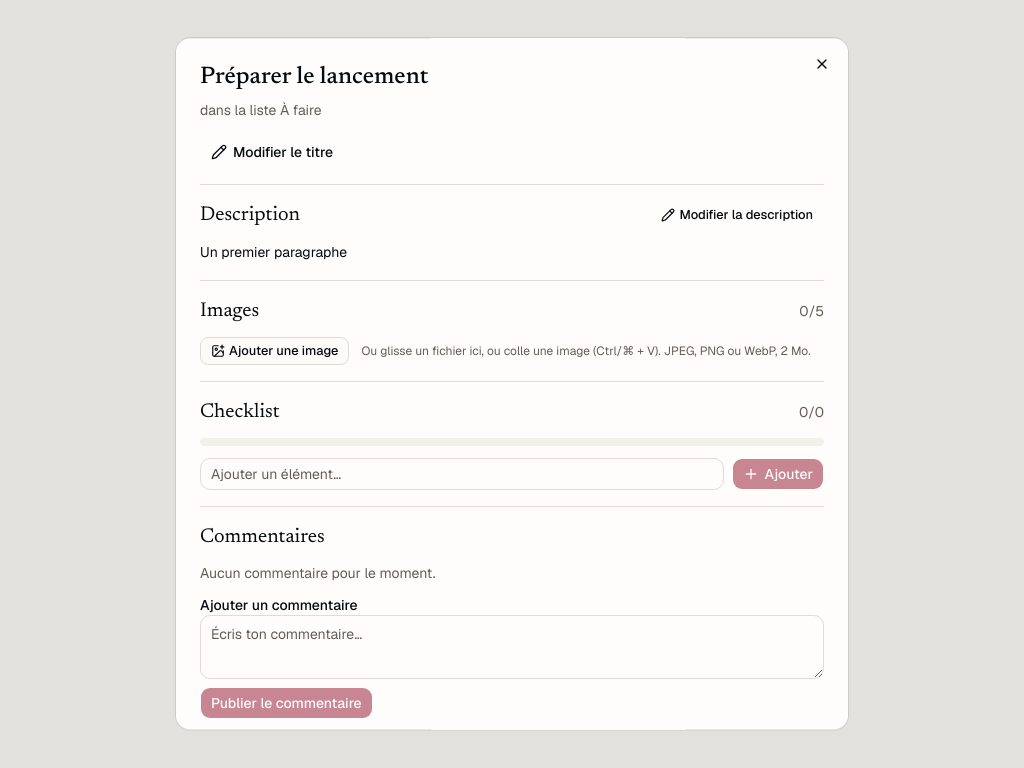
fenêtre d'une carte › conserve la saisie et affiche un message après une erreur réseau
Click the button "Modifier la description" at point(737, 215), box left=650, top=201, right=824, bottom=229
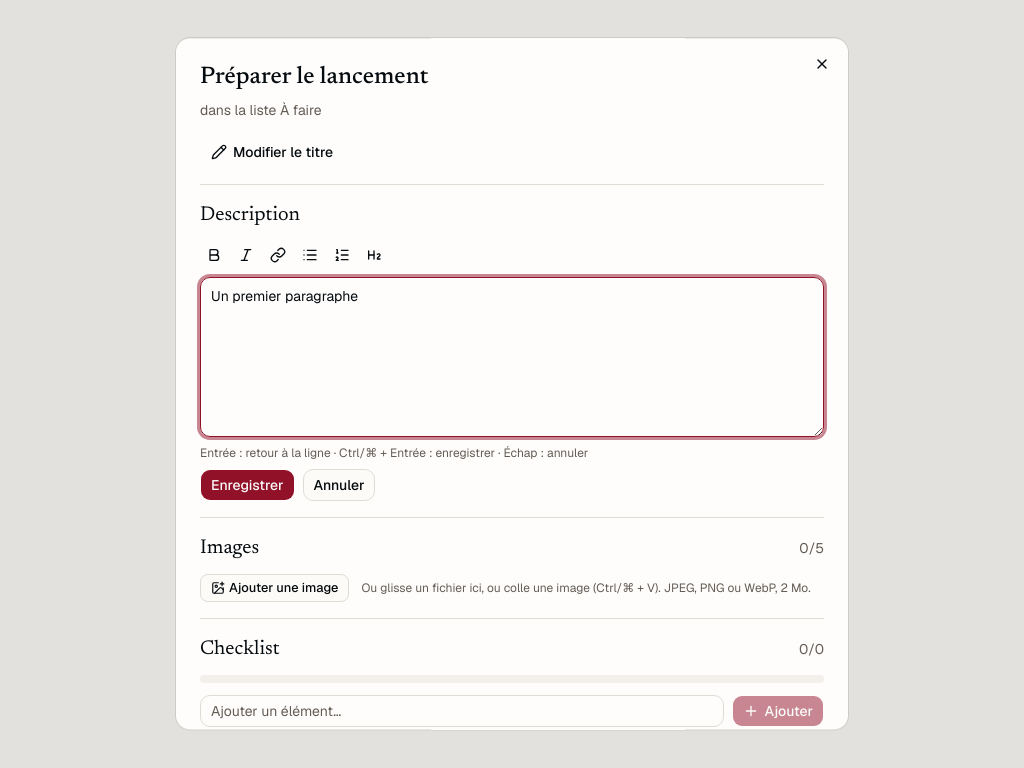
Replace the text in the text box named "Description de la carte" with "À garder" at point(512, 357), box left=200, top=277, right=824, bottom=437
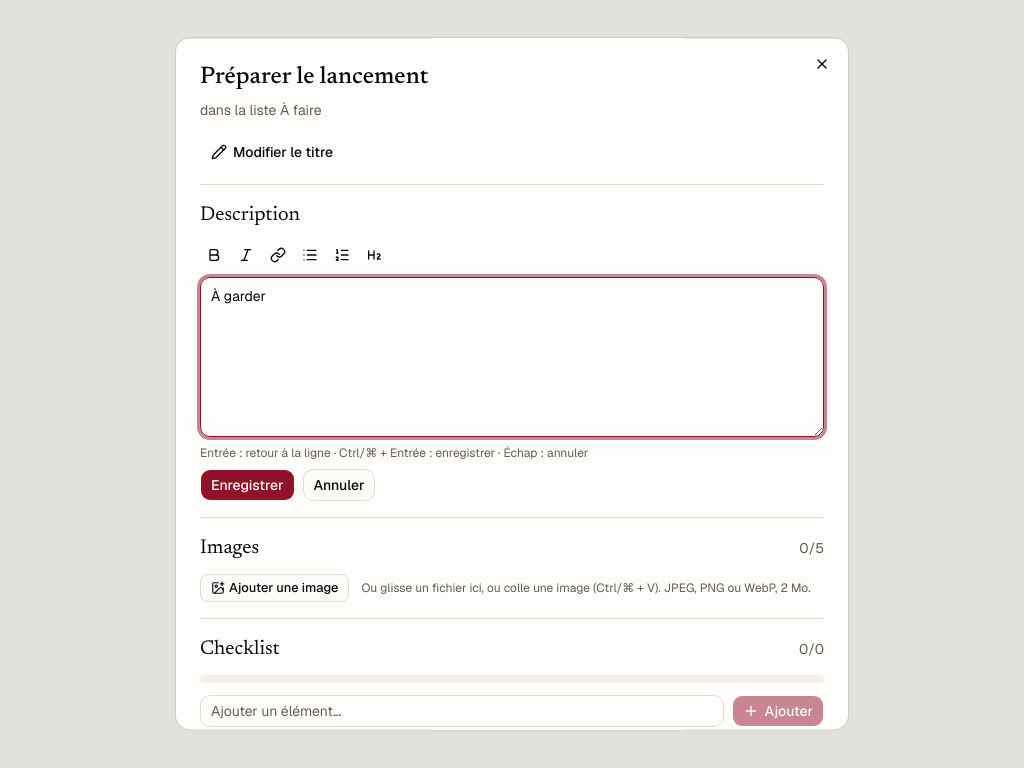
Click the button "Enregistrer" at point(247, 485), box left=200, top=469, right=294, bottom=501
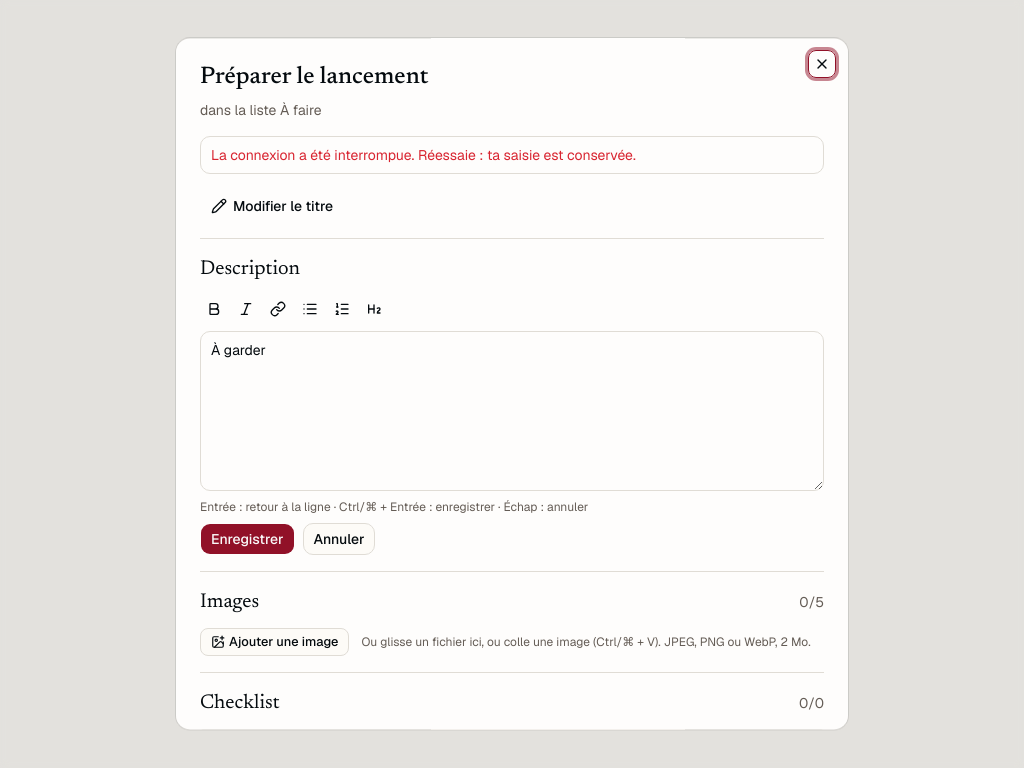
Result: the message shows "ta saisie est conservée" at left=211, top=146, right=636, bottom=164
